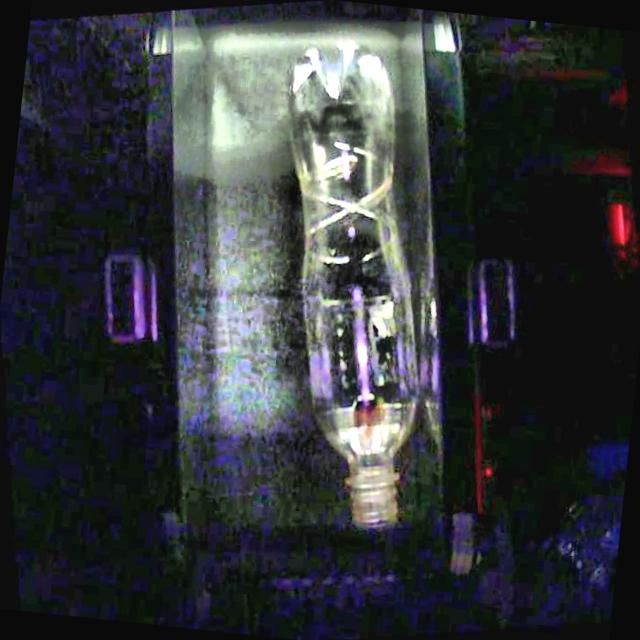plastic bottle: (290, 39, 421, 528)
